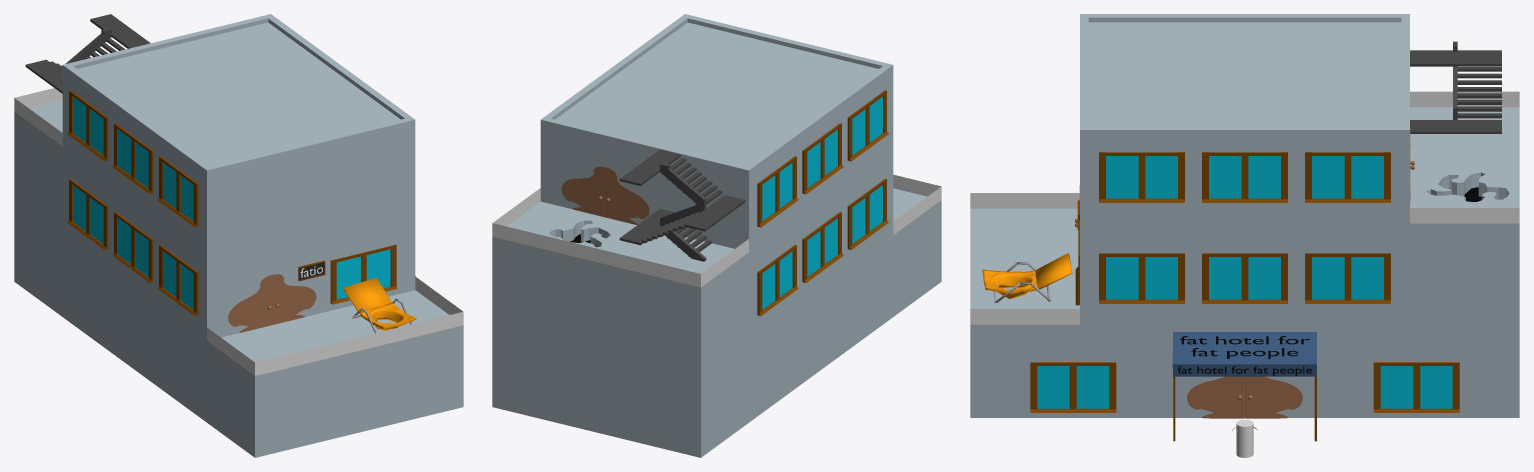
Rendered from fathotel.glb.
3 renders of one model, left to right at view 1: azimuth 30°, elevation 25°; view 2: azimuth 150°, elevation 25°; view 3: azimuth 270°, elevation 25°, orthographic. The views are drawn at different scales.
Visible parts, largest first — view 1: Cube, Cube.004, Plane.001, stairs.002-col, group294144946; view 2: Cube, Cube.004, stairs.002-col, Plane.002; view 3: Cube, Cube.004, Cube.001, stairs.002-col, Plane, group294144946, Text.001, Cylinder.
Boxes of the visible parts, x1,y1,x2,y2 form: Cube: (14,14,463,457); Cube.004: (67,90,397,315); Plane.001: (228,274,316,332); stairs.002-col: (25,14,150,93); group294144946: (343,278,416,333); Cube: (492,14,941,457); Cube.004: (757,90,888,315); stairs.002-col: (619,149,745,261); Plane.002: (561,166,649,224); Cube: (970,14,1519,417); Cube.004: (1030,152,1459,412); Cube.001: (1172,332,1316,376); stairs.002-col: (1410,41,1501,133); Plane: (1187,376,1302,418); group294144946: (982,253,1072,302); Text.001: (1180,336,1309,358); Cylinder: (1232,419,1257,457).
Bounding box in the file's own units: 22.06 × 19.18 × 32.
